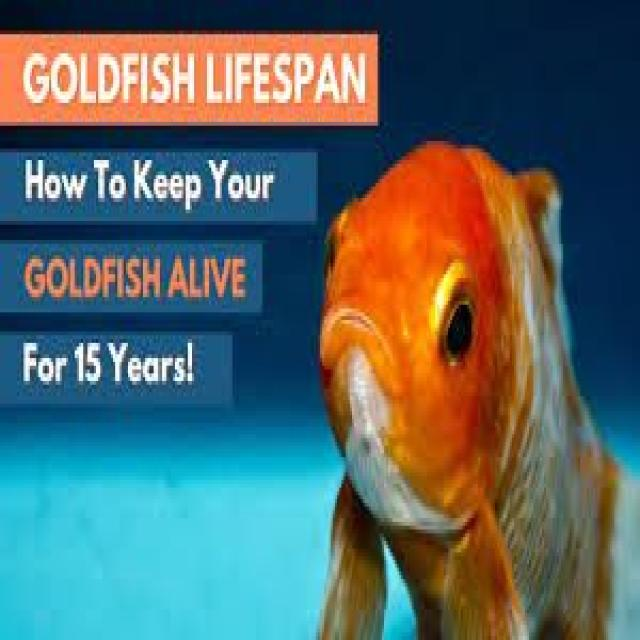Gold-Fish: (313, 133, 638, 640)
